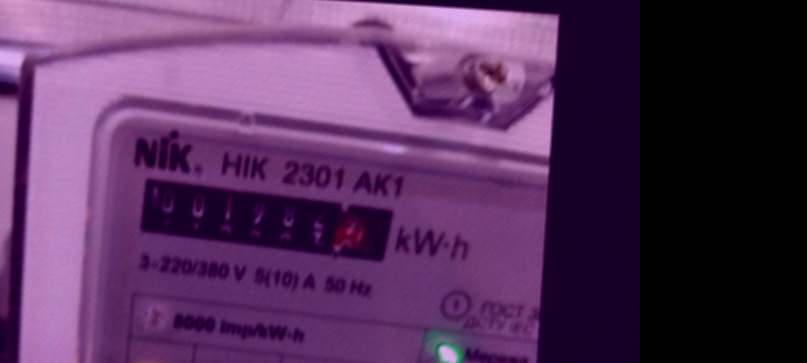0: (188, 190, 207, 220), (158, 185, 176, 215)
1: (220, 192, 234, 222)
2: (310, 201, 330, 231)
8: (280, 200, 298, 229)
9: (340, 209, 362, 238), (249, 197, 266, 227)
screen: (122, 163, 408, 277)
